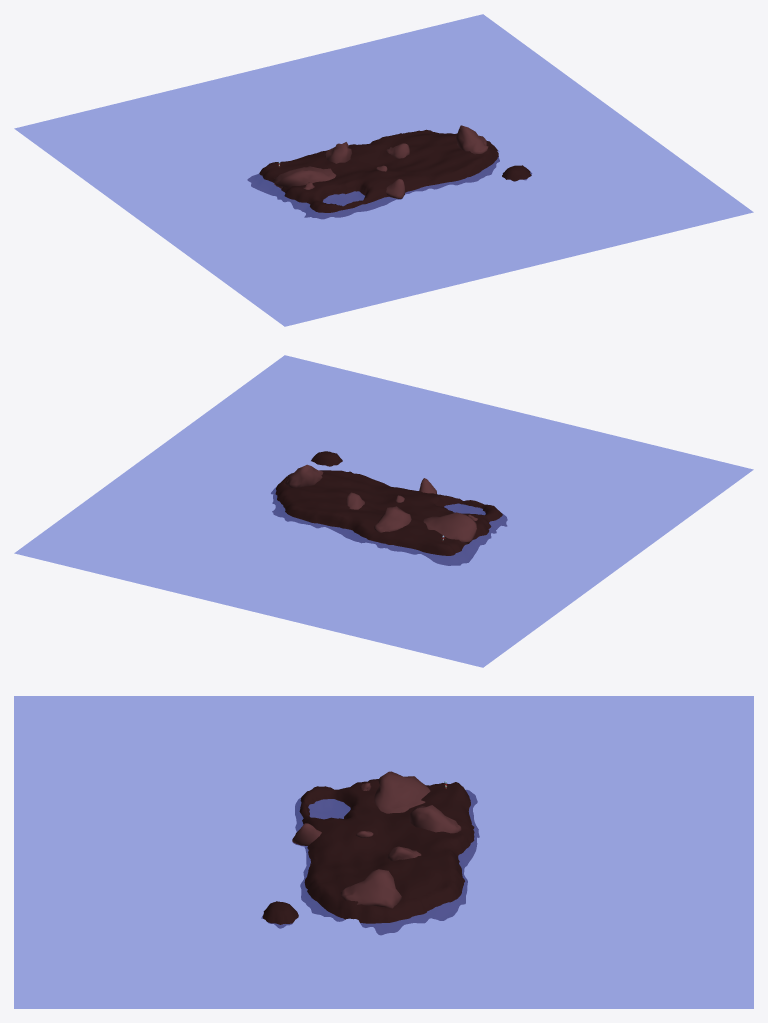
The model's file is Mars.fbx.
3 views of the same model, one above another, from view 1: azimuth 30°, elevation 25°; view 2: azimuth 150°, elevation 25°; view 3: azimuth 270°, elevation 25° (orthographic). The views are drawn at different scales.
Parts seen in each view (by area): view 1: Mars Environment, Water, Ground, Rock.005; view 2: Mars Environment, Water, Ground, Rock.005, Rock.006; view 3: Mars Environment, Water, Ground, Rock.005, Rock, Rock.006.
Boxes of the visible parts, x1,y1,x2,y2 form: Mars Environment: (15,14,752,326); Water: (14,14,753,326); Ground: (247,129,531,218); Rock.005: (273,166,336,188); Mars Environment: (15,355,752,667); Water: (14,355,753,667); Ground: (271,451,507,565); Rock.005: (423,512,476,543); Rock.006: (374,506,411,532); Mars Environment: (14,696,753,1008); Water: (14,696,753,1008); Ground: (261,779,479,934); Rock.005: (374,772,430,813); Rock: (342,869,401,908); Rock.006: (409,805,461,833).
Bounding box in the file's own units: 36292 × 2479 × 36292.
